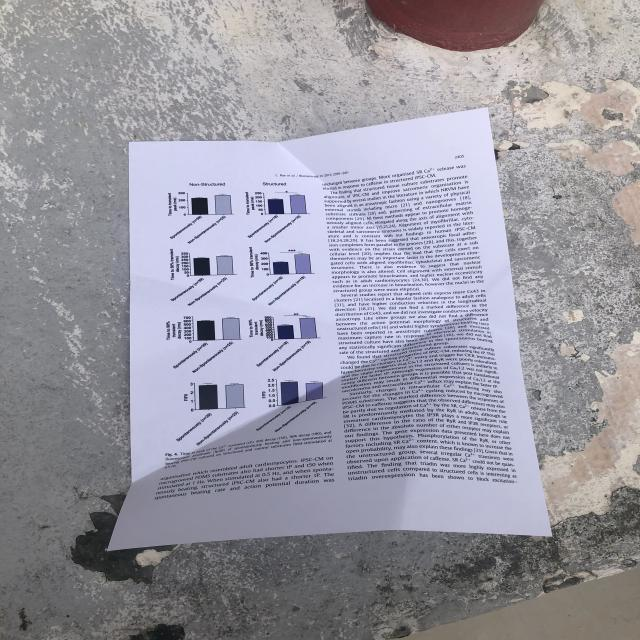kertas: (95, 107, 552, 551)
